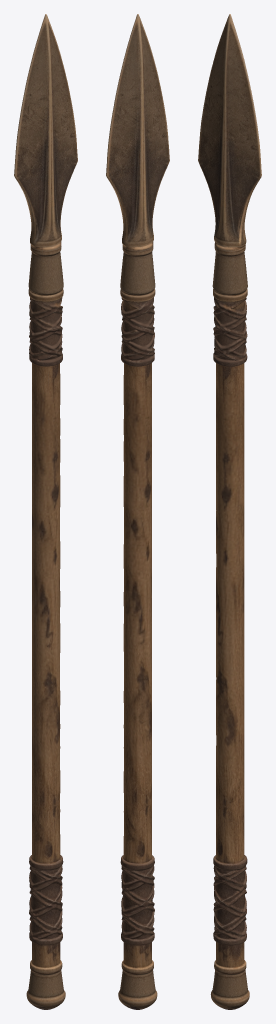
File: Meshy_AI_Bronzewood_Spear_0924172014_texture.fbx
The picture shows the model from 3 angles, left to right: view 1: azimuth 30°, elevation 25°; view 2: azimuth 210°, elevation 25°; view 3: azimuth 330°, elevation 25°; orthographic projection.
Visible parts, largest first — view 1: Mesh_0; view 2: Mesh_0; view 3: Mesh_0.
Boxes of the visible parts, x1,y1,x2,y2 form: Mesh_0: (14,14,77,1009); Mesh_0: (106,14,169,1009); Mesh_0: (198,14,261,1009).
Bounding box in the file's own units: 12.71 × 190 × 6.74.
Materials: 1 (1 with a texture image).
